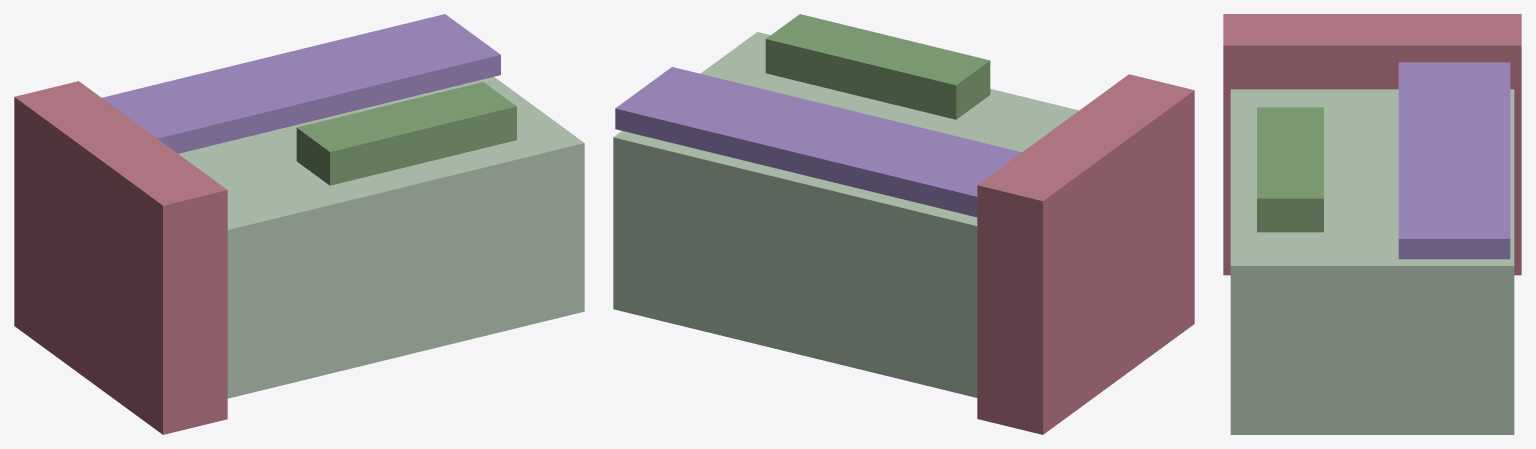
The picture shows the model from 3 angles, left to right: view 1: azimuth 30°, elevation 25°; view 2: azimuth 150°, elevation 25°; view 3: azimuth 270°, elevation 25°; orthographic projection.
Visible parts, largest first — view 1: world; view 2: world; view 3: world.
Part boxes in pixels (x1,y1,x2,y2): world: [14, 14, 584, 434]; world: [613, 14, 1194, 434]; world: [1223, 14, 1521, 434].
Size of the model in its own units: 6.6 by 3.4 by 4.
